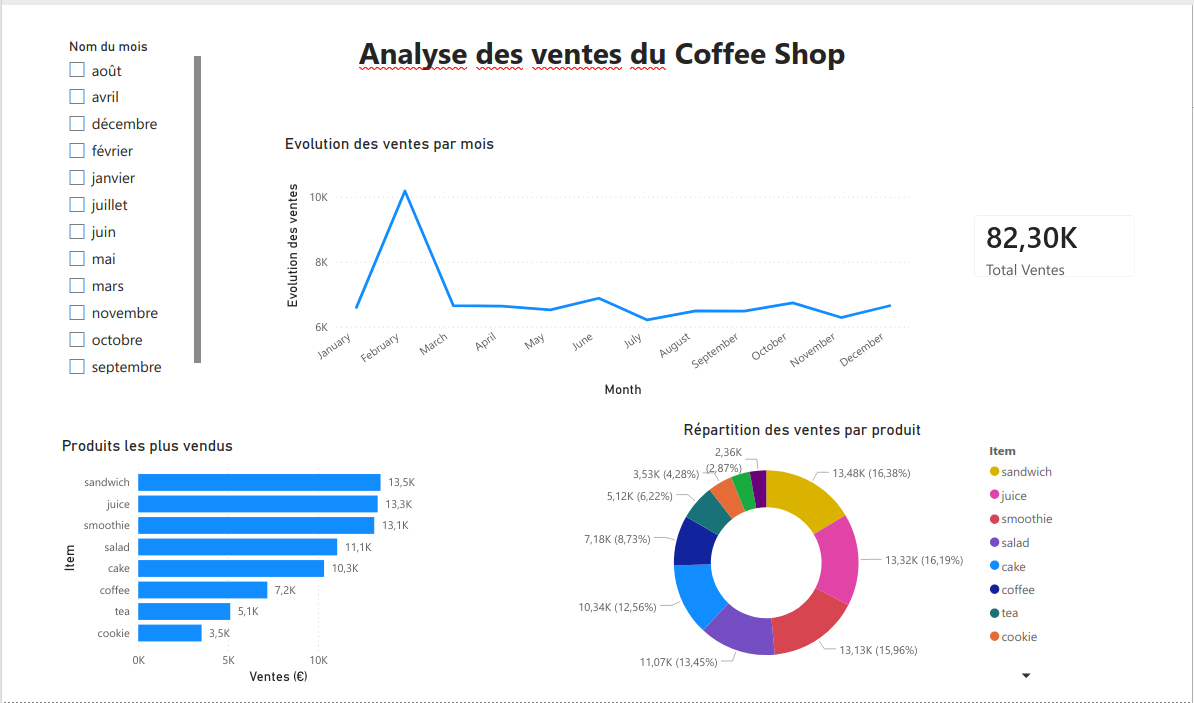

Layout of this report page (visuals, bound fields, positions):
{"tool":"powerbi","page":{"name":"Coffee Sales","canvas":[1280,750],"ordinal":0},"visuals":[{"type":"cardVisual","fields":{"Data":["Sum(Cafe Sales Dataset 2.Total Spent)"]},"box":[1041.4,245.9,207.2,101.5],"z":0},{"type":"lineChart","title":"Evolution des ventes par mois","fields":{"Category":["Cafe Sales Dataset 2.Transaction Date.Variation.Date Hierarchy.Month"],"Y":["Sum(Cafe Sales Dataset 2.Total Spent)"]},"box":[299.3,141.3,681.3,284.7],"z":1000},{"type":"clusteredBarChart","title":"Produits les plus vendus","fields":{"Category":["Cafe Sales Dataset 2.Item"],"Y":["Sum(Cafe Sales Dataset 2.Total Spent)"]},"box":[59.7,465.8,402.9,269],"z":2000},{"type":"donutChart","title":"Répartition des ventes par produit","fields":{"Category":["Cafe Sales Dataset 2.Item"],"Y":["Sum(Cafe Sales Dataset 2.Total Spent)"]},"box":[576.7,449,568.3,285.7],"z":3000},{"type":"slicer","fields":{"Values":["Cafe Sales Dataset 2.Nom du mois"]},"box":[59.7,32.4,160.1,369.4],"z":3001},{"type":"textbox","box":[444.8,32.4,390.4,51.3],"z":3002}]}

Visuals, with their boxes in screenshot pixels (x1, y1, x2, y2), scaled from the page's 1280x750 canvas onto the 1194x703 screenshot:
cardVisual - Sum(Cafe Sales Dataset 2.Total Spent): <bbox>971, 230, 1165, 326</bbox>
"Evolution des ventes par mois" lineChart: <bbox>279, 132, 915, 399</bbox>
"Produits les plus vendus" clusteredBarChart: <bbox>56, 437, 432, 689</bbox>
"Répartition des ventes par produit" donutChart: <bbox>538, 421, 1068, 689</bbox>
slicer - Cafe Sales Dataset 2.Nom du mois: <bbox>56, 30, 205, 377</bbox>
textbox: <bbox>415, 30, 779, 78</bbox>
